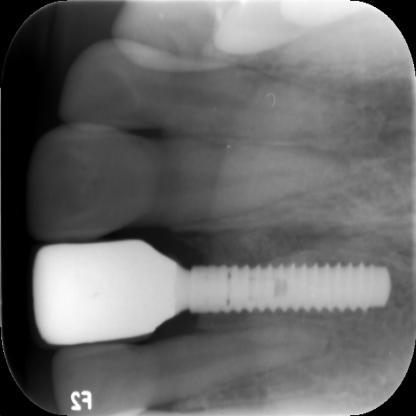ITI: (174, 249, 394, 339)
